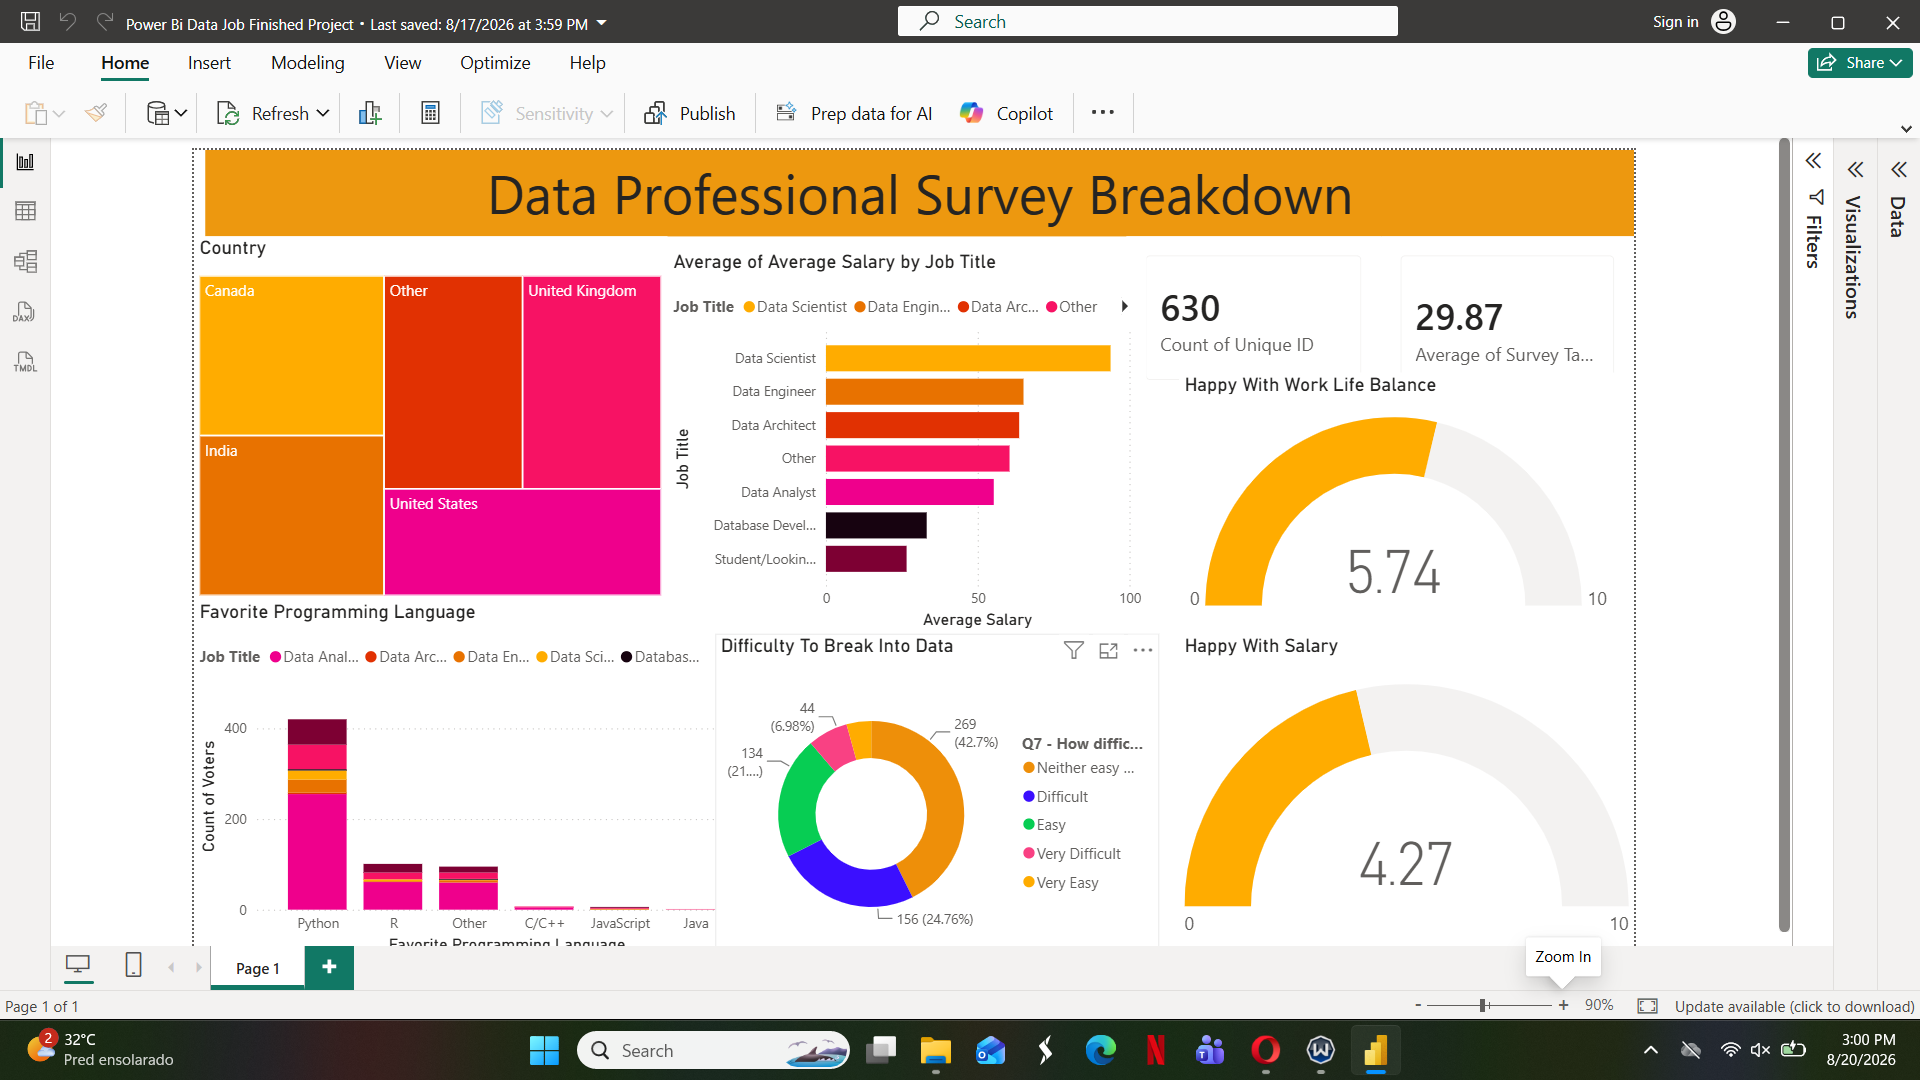

Layout of this report page (visuals, bound fields, positions):
{"tool":"powerbi","page":{"name":"Page 1","canvas":[1280,720],"ordinal":0},"visuals":[{"type":"textbox","box":[9.6,0,559.9,279.9],"z":0},{"type":"textbox","box":[9.6,0,1270.7,76.8],"z":1000},{"type":"cardVisual","fields":{"Data":["Avg(Data Professional Survey.Q10 - Current Age)"]},"box":[1055.2,76.5,224.8,162.6],"z":2000},{"type":"cardVisual","fields":{"Data":["Count(Data Professional Survey.Unique ID)"]},"box":[828.9,76.5,226.4,145.1],"z":3000},{"type":"barChart","title":"Average of Average Salary by Job Title","fields":{"Category":["Data Professional Survey.Q1 - Which Title Best Fits your Current Role?.1"],"Y":["Avg(Data Professional Survey.Average Salary)"],"Series":["Data Professional Survey.Q1 - Which Title Best Fits your Current Role?.1"]},"box":[420.8,89.3,425.6,341.1],"z":4000},{"type":"columnChart","title":"Favorite Programming Language","fields":{"Category":["Data Professional Survey.Q5 - Favorite Programming Language.1"],"Y":["CountNonNull(Data Professional Survey.Unique ID)"],"Series":["Data Professional Survey.Q1 - Which Title Best Fits your Current Role?.1"]},"box":[0,400.1,505.3,318.8],"z":5000},{"type":"treemap","title":"Country","fields":{"Group":["Data Professional Survey.Q11 - Which Country do you live in?.1"],"Values":["Count(Data Professional Survey.Q11 - Which Country do you live in?.1)"]},"box":[0,76.5,420.5,324.2],"z":6000},{"type":"gauge","title":"Happy With Work Life Balance","fields":{"Y":["Avg(Data Professional Survey.Q6 - How Happy are you in your Current Position with the following? (Work/Life Balance))"],"MinValue":["Min(Data Professional Survey.Q6 - How Happy are you in your Current Position with the following? (Work/Life Balance))1"],"MaxValue":["Max(Data Professional Survey.Q6 - How Happy are you in your Current Position with the following? (Work/Life Balance))2"]},"box":[875.1,197.7,390.5,221.6],"z":7000},{"type":"gauge","title":"Happy With Salary","fields":{"Y":["Avg(Data Professional Survey.Q6 - How Happy are you in your Current Position with the following? (Salary))"],"MinValue":["Min(Data Professional Survey.Q6 - How Happy are you in your Current Position with the following? (Salary))"],"MaxValue":["Max(Data Professional Survey.Q6 - How Happy are you in your Current Position with the following? (Salary))"]},"box":[875.1,430.4,404.9,288.5],"z":8000},{"type":"donutChart","title":"Difficulty To Break Into Data","fields":{"Category":["Data Professional Survey.Q7 - How difficult was it for you to break into Data?"],"Y":["CountNonNull(Data Professional Survey.Q7 - How difficult was it for you to break into Data?)"]},"box":[463.9,430.4,393.7,290.1],"z":9000}]}

Visuals, with their boxes on the page's 1280x720 design canvas (x1, y1, x2, y2). These are canvas units, not pixel positions in the 1920x1080 screenshot, which may show the page scaled, cropped or inside an application window:
textbox: pyautogui.locateOnScreen(10, 0, 570, 280)
textbox: pyautogui.locateOnScreen(10, 0, 1280, 77)
cardVisual - Avg(Data Professional Survey.Q10 - Current Age): pyautogui.locateOnScreen(1055, 76, 1280, 239)
cardVisual - Count(Data Professional Survey.Unique ID): pyautogui.locateOnScreen(829, 76, 1055, 222)
"Average of Average Salary by Job Title" barChart: pyautogui.locateOnScreen(421, 89, 846, 430)
"Favorite Programming Language" columnChart: pyautogui.locateOnScreen(0, 400, 505, 719)
"Country" treemap: pyautogui.locateOnScreen(0, 76, 420, 401)
"Happy With Work Life Balance" gauge: pyautogui.locateOnScreen(875, 198, 1266, 419)
"Happy With Salary" gauge: pyautogui.locateOnScreen(875, 430, 1280, 719)
"Difficulty To Break Into Data" donutChart: pyautogui.locateOnScreen(464, 430, 858, 720)
